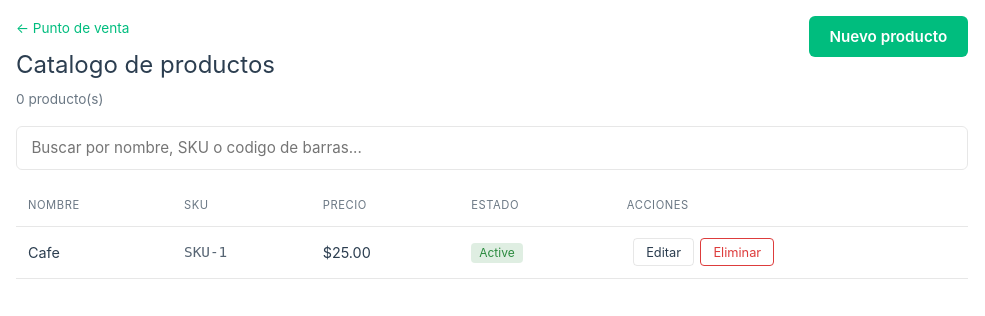
Test case: ProductsView › muestra el error de borrado cuando remove falla
The image size is (985, 316).
Step 1. Click the button "Eliminar" → click(737, 252), box left=700, top=238, right=774, bottom=266
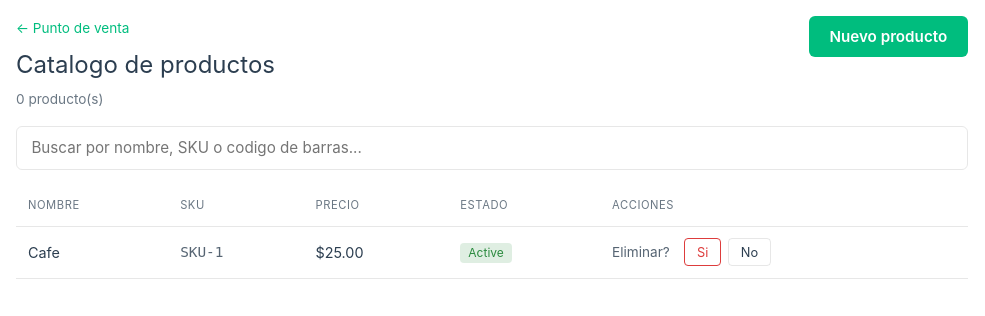
Step 2. Click the button "Si" → click(703, 252), box left=684, top=238, right=721, bottom=266
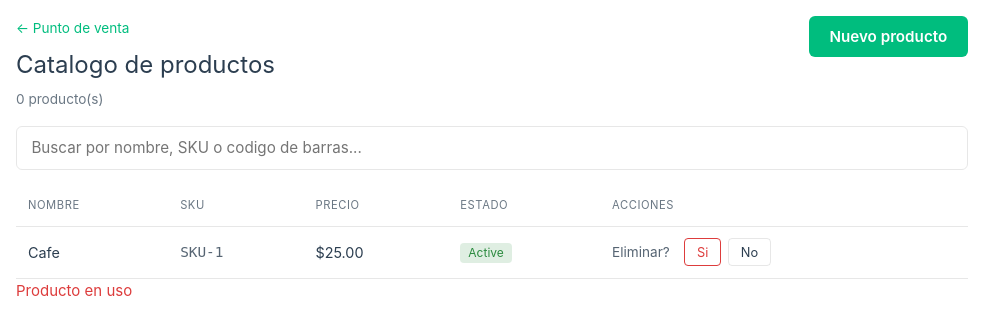
Expected: the text "Producto en uso" is shown, left=16, top=280, right=132, bottom=300
